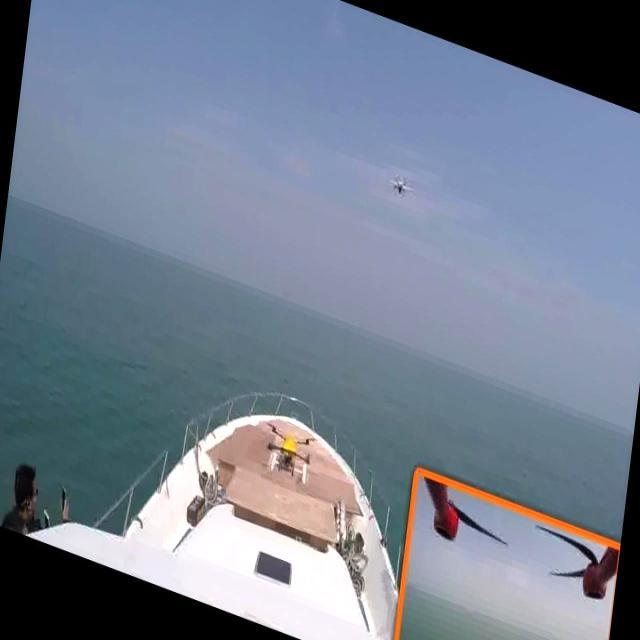drone: (382, 159, 418, 207)
